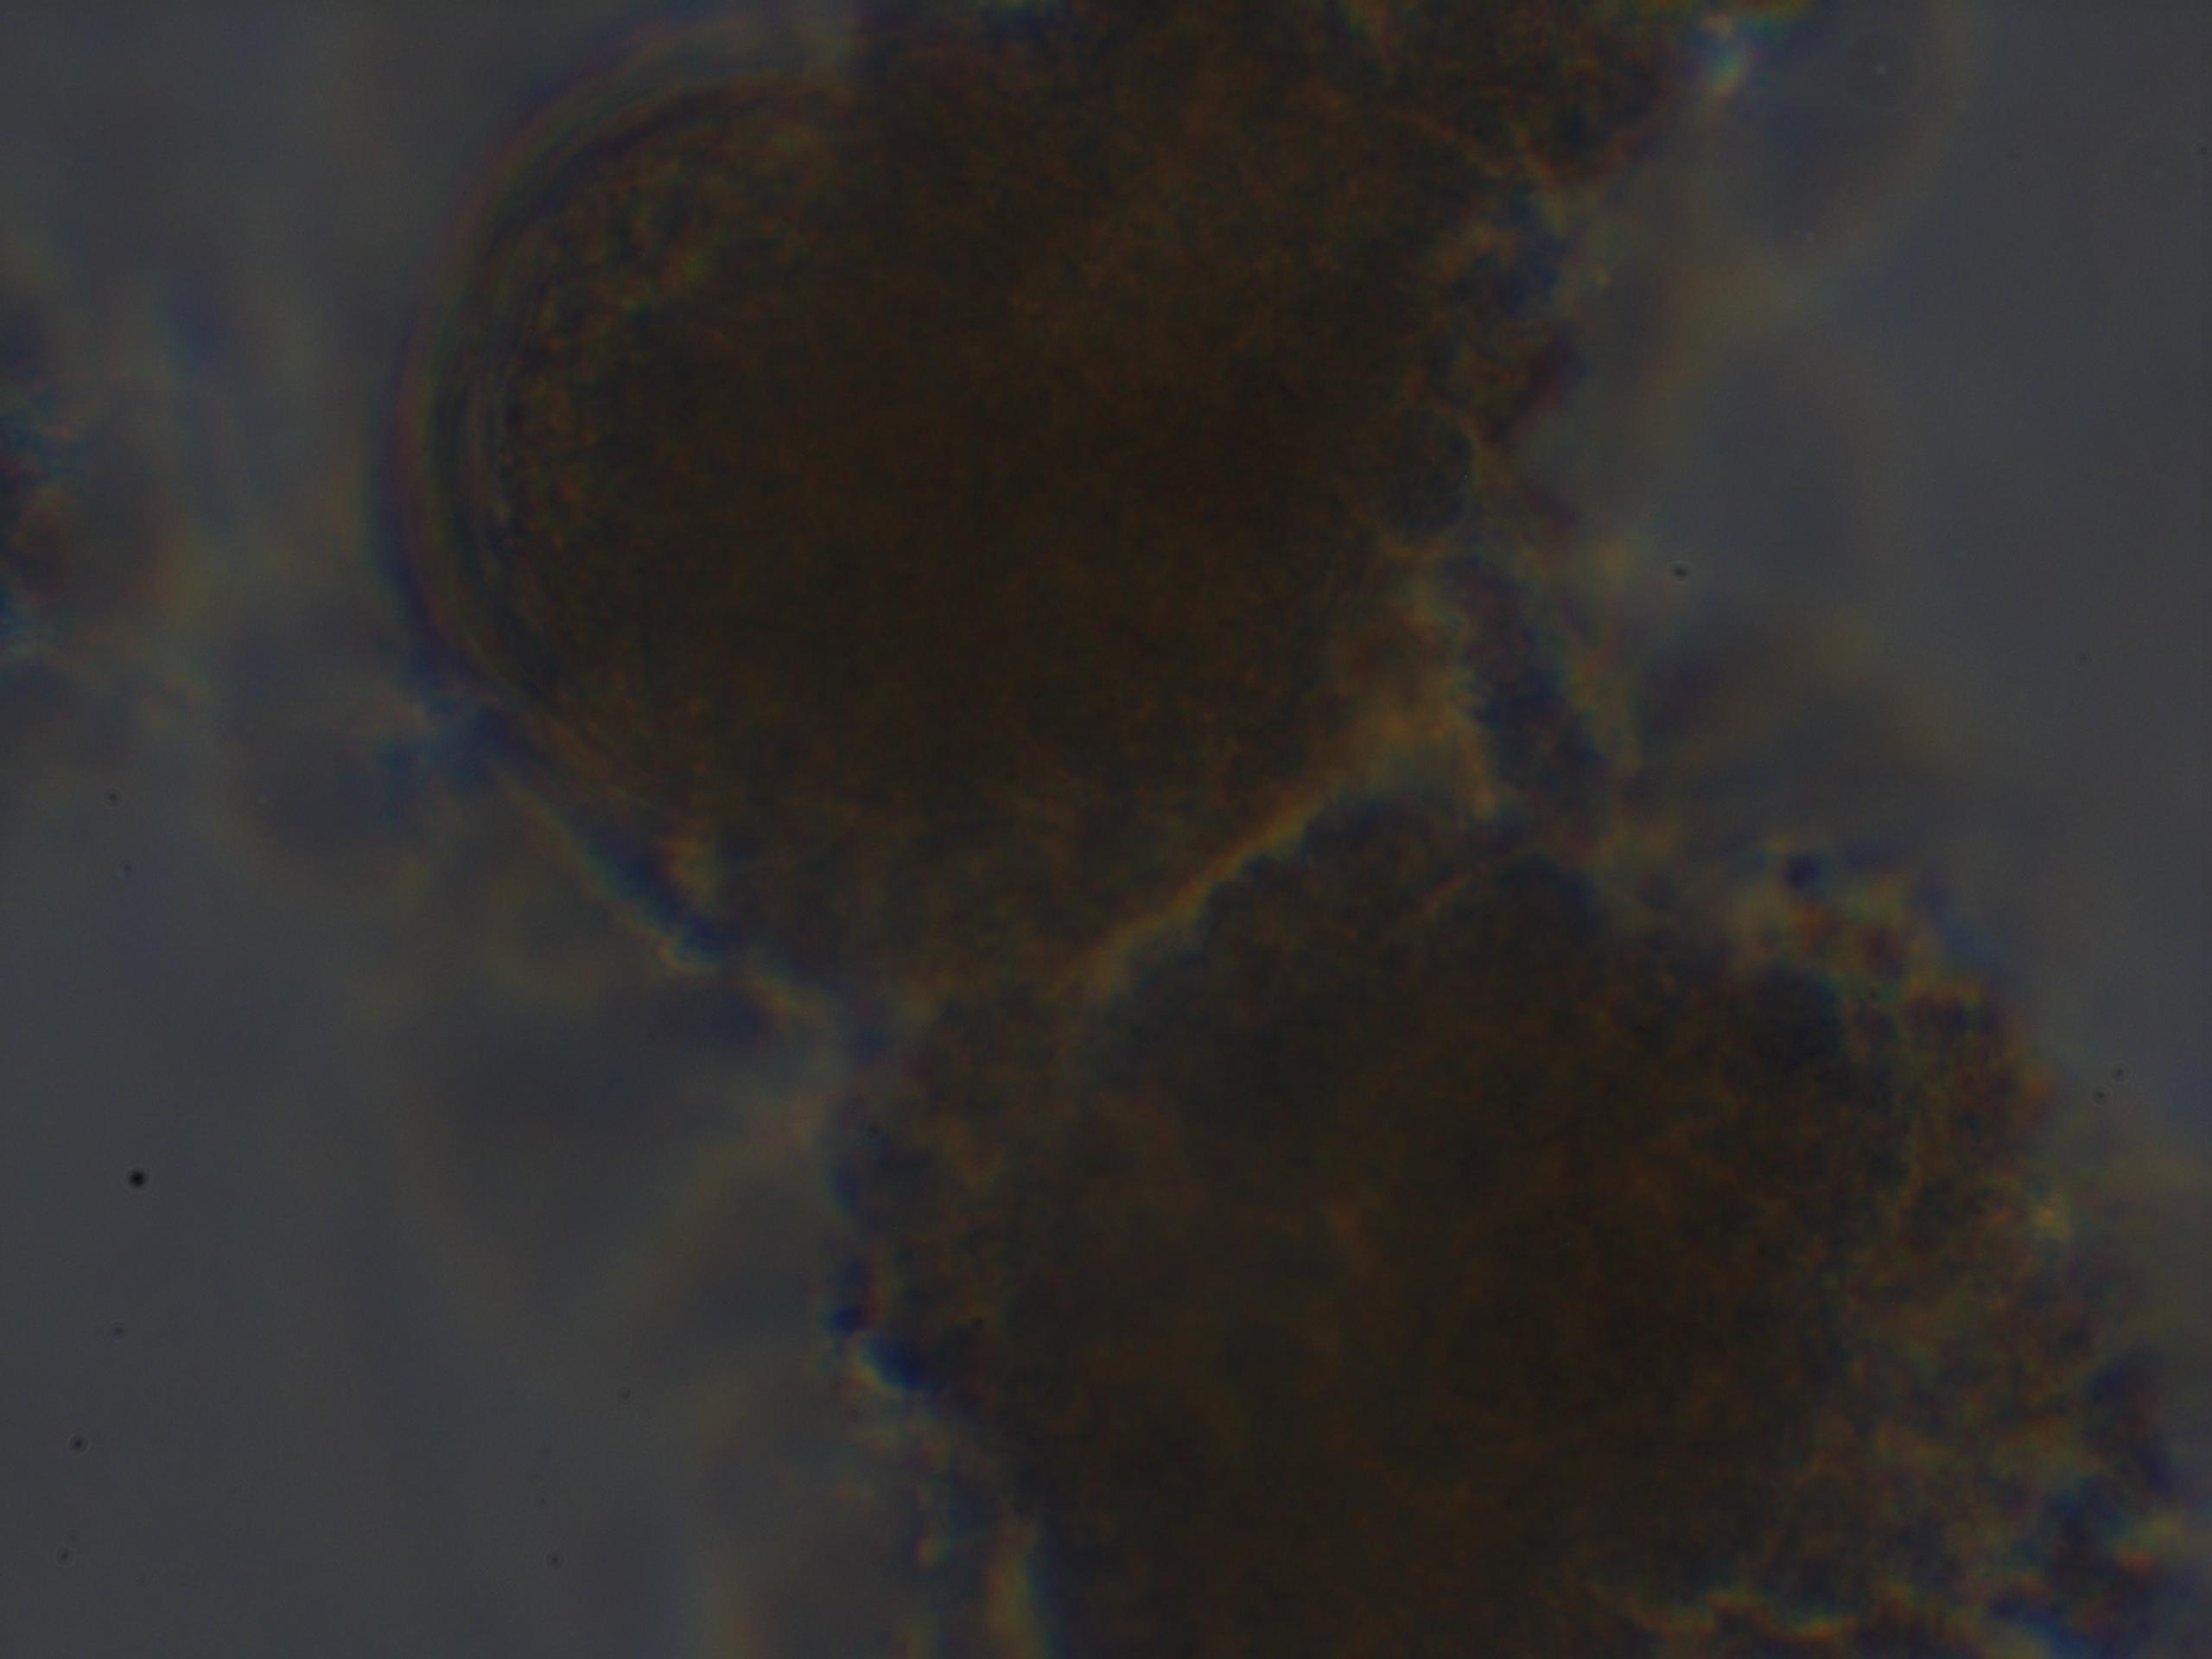spherical_floc: (826, 798, 2116, 1659)
